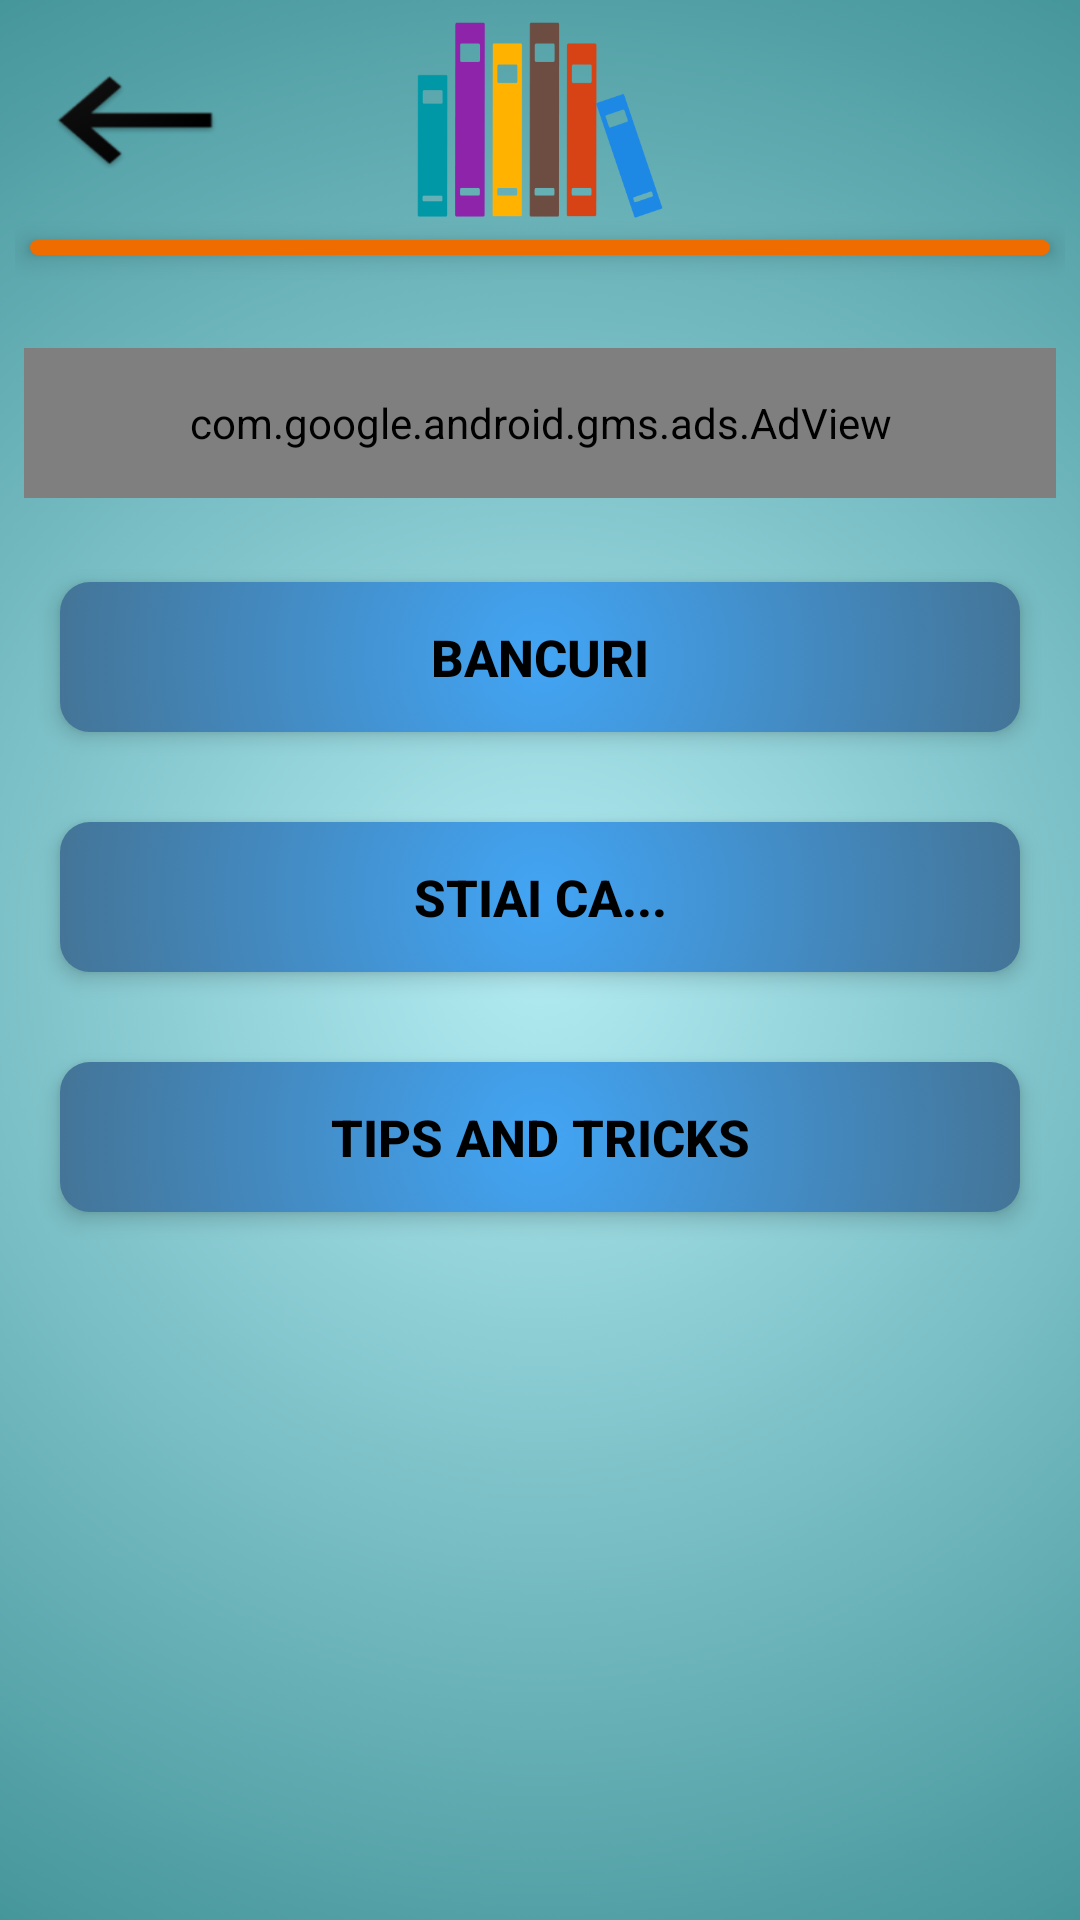

Locate icon controls on the screen. Image size 1080 × 1920, boxes as [x1, y1, x2, y2].
graphic book: [418, 22, 663, 218]
